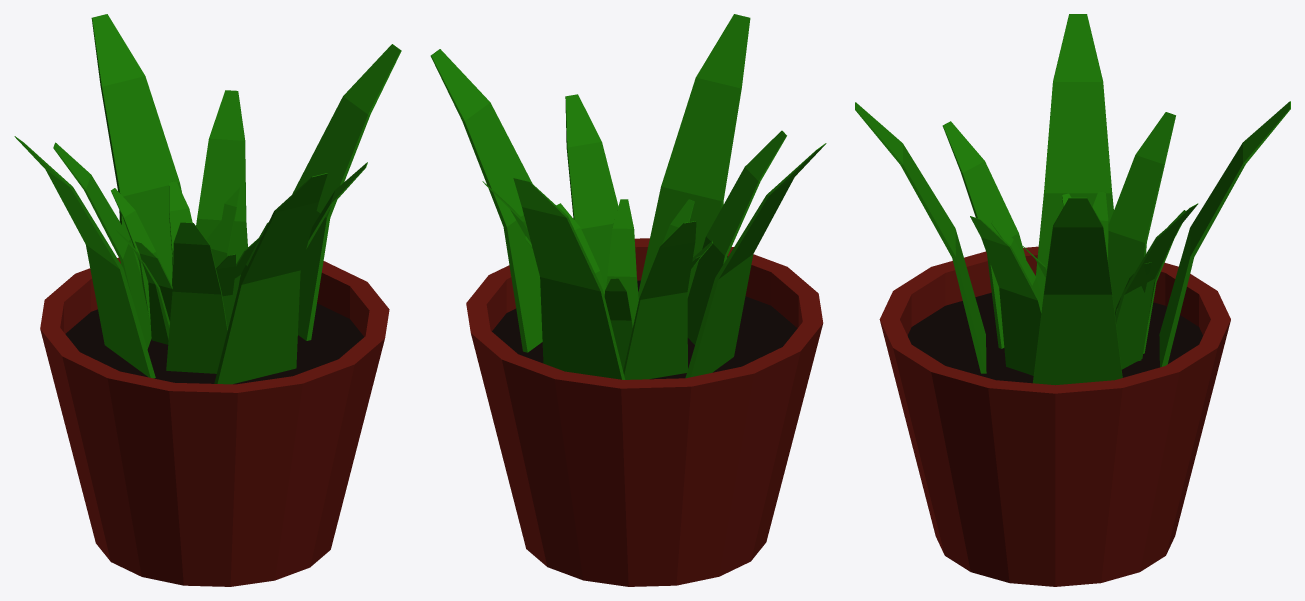
Rendered from Plant.obj.
The picture shows the model from 3 angles, left to right: view 1: azimuth 30°, elevation 25°; view 2: azimuth 150°, elevation 25°; view 3: azimuth 270°, elevation 25°; orthographic projection. The views are drawn at different scales.
Parts seen in each view (by area): view 1: VasoDaPlanta; view 2: VasoDaPlanta; view 3: VasoDaPlanta.
Boxes of the visible parts, x1,y1,x2,y2 form: VasoDaPlanta: (14, 14, 401, 586); VasoDaPlanta: (430, 14, 826, 586); VasoDaPlanta: (855, 14, 1290, 586).
Bounding box in the file's own units: 3.64 × 3.99 × 3.64.
